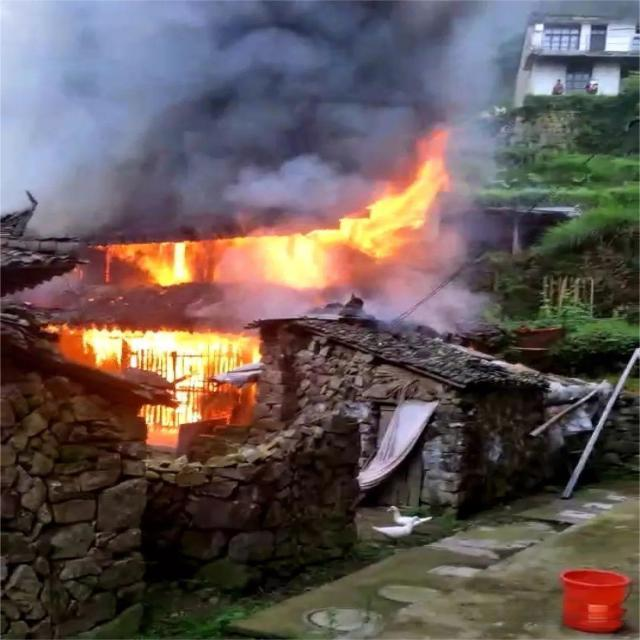Fire: (90, 326, 230, 426), (346, 162, 450, 266), (248, 233, 338, 293), (150, 243, 196, 286)
Smoke: (0, 0, 332, 226), (334, 0, 521, 160)
